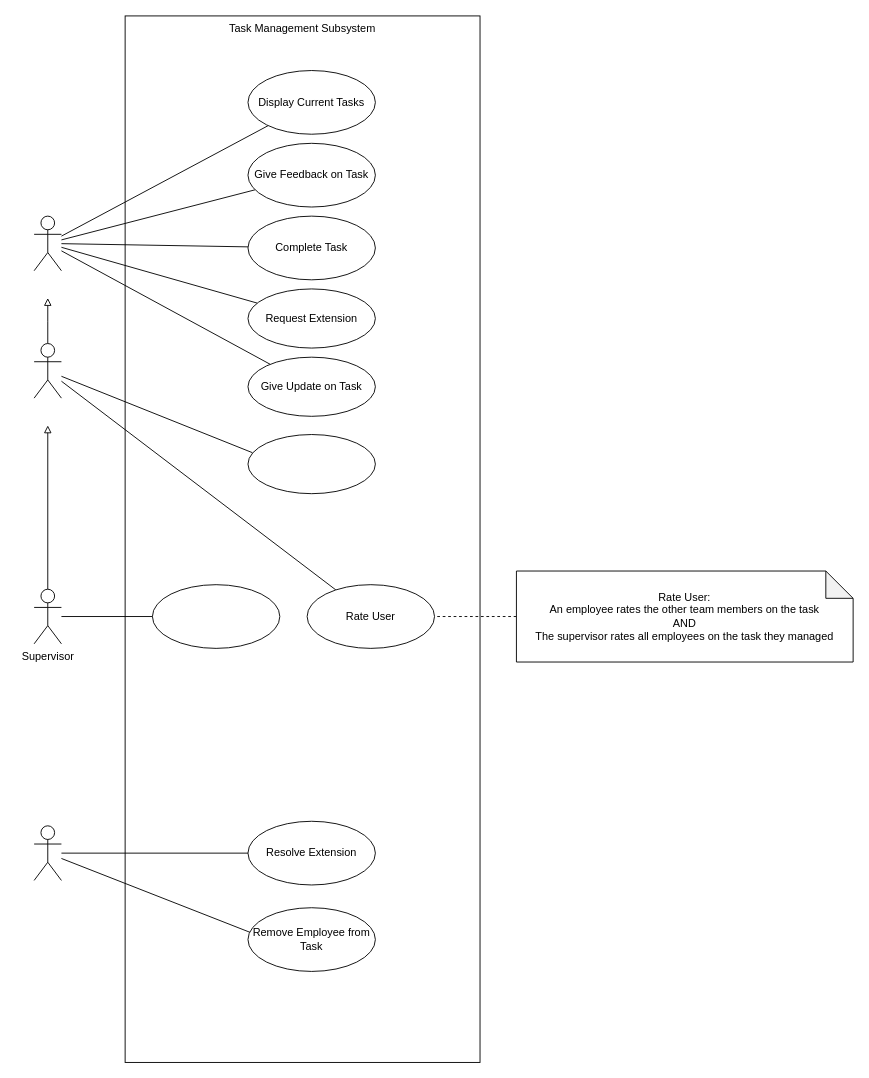
Image size: 869x1078. Some labels were removed from this diagram. Here are the shapes that lost their labels. From the top down, the centre of each, then its label:
the point at 47,243: Contractor
the point at 47,370: Employee
the point at 311,464: Request Removal From Task
the point at 216,616: Resolve Task Completion
the point at 47,852: Administrator
